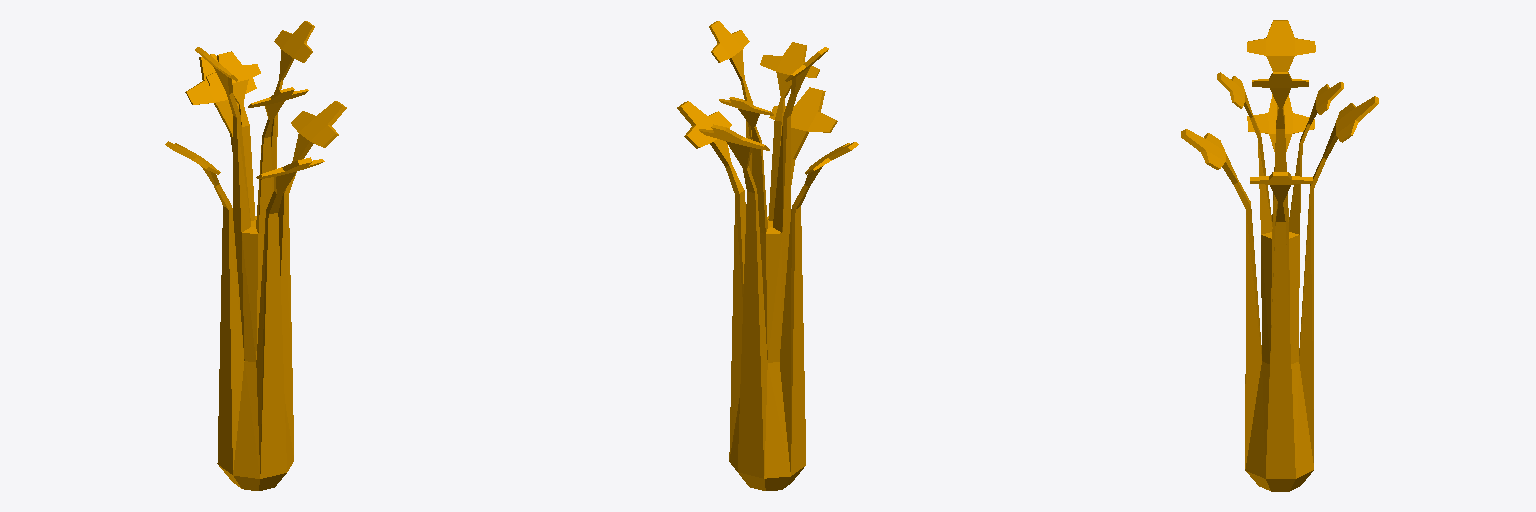
The robot description file, URDF, robot "celery":
<?xml version="1.0"?>
<robot name="celery">
  <link name="celery">
    <inertial>
        <origin rpy="0 0 0" xyz="0 0 0"/>
        <mass value="0.01"/>
        <inertia ixx="2e-5" ixy="0" ixz="0" iyy="2e-5" iyz="0" izz="2e-5"/>
    </inertial>
    <visual>
      <geometry>
        <mesh filename="Celery.obj"/>
      </geometry>
    </visual>
    <collision>
      <geometry>
        <mesh filename="CeleryCollider.obj"/>
      </geometry>
    </collision>
  </link>
</robot>

--- Render facts (derived) ---
The picture shows the robot from 3 angles, left to right: view 1: azimuth 30°, elevation 25°; view 2: azimuth 150°, elevation 25°; view 3: azimuth 270°, elevation 25°; orthographic projection.
Model celery with 1 links and 0 joints (none), rooted at celery, posed all joints at 0.
Links seen in each view (by area): view 1: celery; view 2: celery; view 3: celery.
Boxes of the visible links, <box> form: celery: <box>165,21,346,490</box>; celery: <box>677,21,858,490</box>; celery: <box>1181,20,1378,491</box>.
Size in the robot's own frame: 0.1432 by 0.1429 by 0.3487 metres.
1 mesh visuals loaded from 1 distinct referenced files (1 OBJ).
